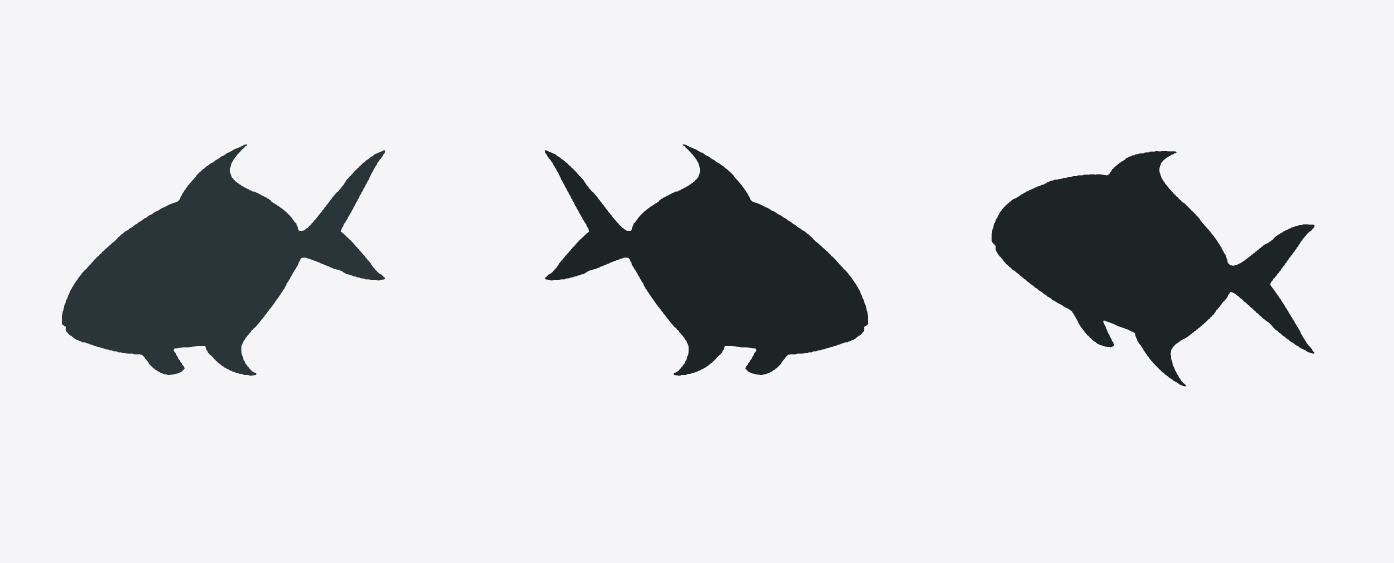
File: fish3.glb
3 views of the same model, side by side, from view 1: azimuth 30°, elevation 25°; view 2: azimuth 150°, elevation 25°; view 3: azimuth 330°, elevation 25° (orthographic).
Parts seen in each view (by area): view 1: fish.053; view 2: fish.053; view 3: fish.053.
Part boxes in pixels (left/top/right/bottom): fish.053: left=62, top=144, right=384, bottom=375; fish.053: left=545, top=144, right=867, bottom=375; fish.053: left=991, top=151, right=1314, bottom=386.
Size of the model in its own units: 0.2634 by 0.2519 by 0.
Materials: 1 (1 with a texture image).
